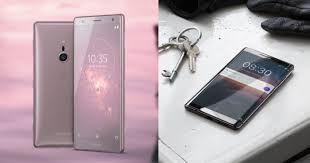sony: (72, 11, 126, 153)
